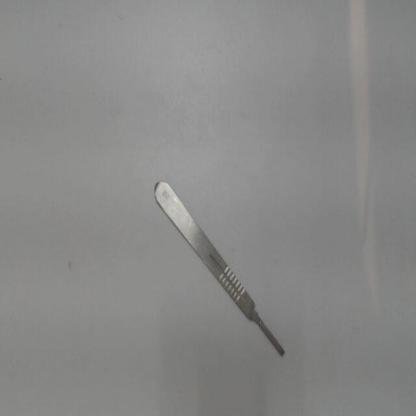No.4 BP Handle: (145, 154, 299, 378)
